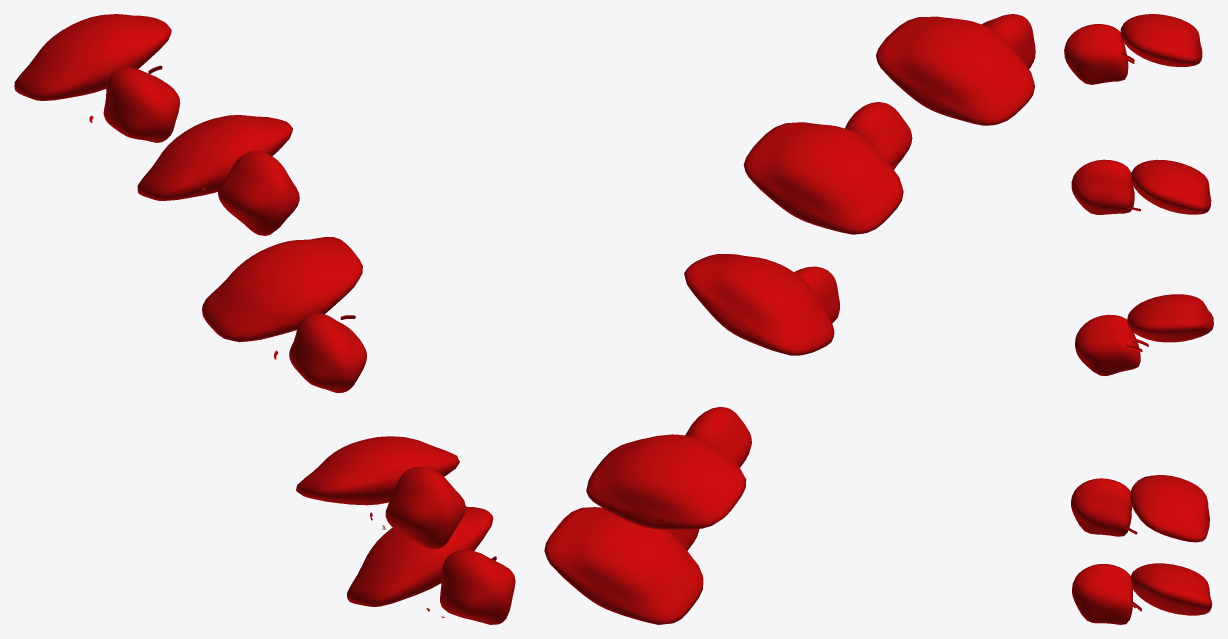
Rendered from helmet_mat1.obj.
3 views of the same model, side by side, from view 1: azimuth 30°, elevation 25°; view 2: azimuth 150°, elevation 25°; view 3: azimuth 270°, elevation 25° (orthographic). The views are drawn at different scales.
Parts seen in each view (by area): view 1: helmet_mat1; view 2: helmet_mat1; view 3: helmet_mat1.
Boxes of the visible parts, <box> form: helmet_mat1: <box>14,14,515,624</box>; helmet_mat1: <box>544,14,1035,624</box>; helmet_mat1: <box>1064,14,1213,624</box>.
Bounding box in the file's own units: 15.05 × 20.21 × 5.67.
